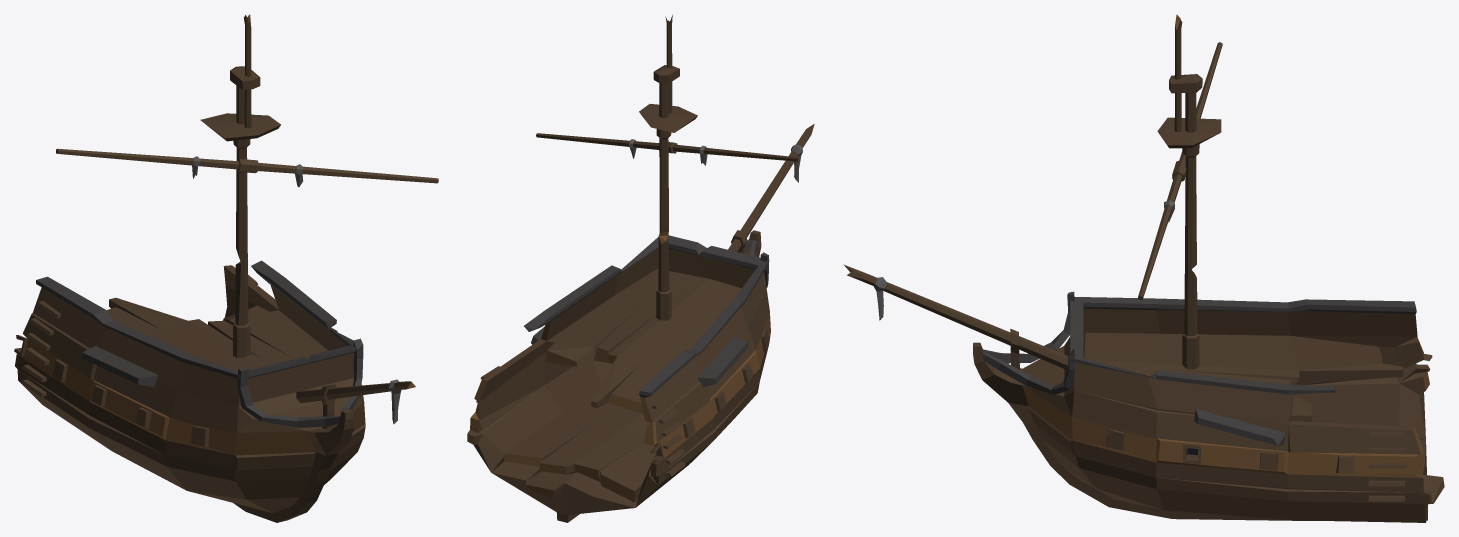
Rendered from pirates-ship-pirate-vreck-front.glb.
3 renders of one model, left to right at view 1: azimuth 30°, elevation 25°; view 2: azimuth 150°, elevation 25°; view 3: azimuth 270°, elevation 25°, orthographic. The views are drawn at different scales.
Parts seen in each view (by area): view 1: ship-pirate-vreck-front; view 2: ship-pirate-vreck-front; view 3: ship-pirate-vreck-front.
Boxes of the visible parts, left/top/right/bottom form: ship-pirate-vreck-front: left=14, top=14, right=438, bottom=522; ship-pirate-vreck-front: left=467, top=15, right=814, bottom=522; ship-pirate-vreck-front: left=843, top=14, right=1444, bottom=522.
Bounding box in the file's own units: 11.72 × 16.23 × 17.6.
